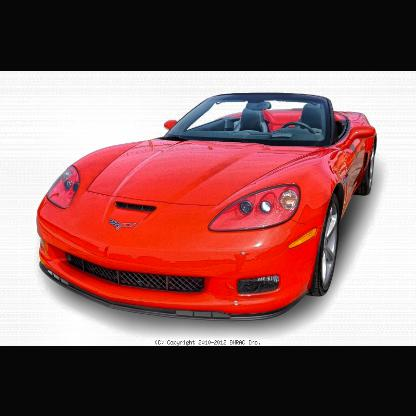Chevrolet Corvette Convertible 2012: (39, 93, 378, 321)
